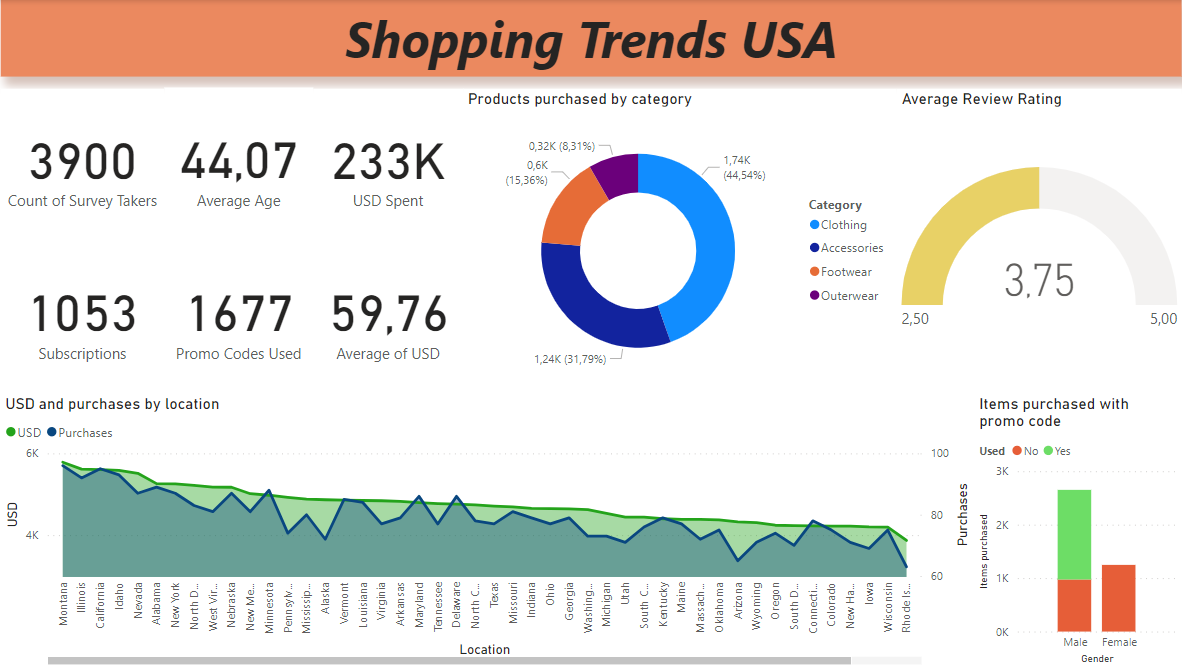

Layout of this report page (visuals, bound fields, positions):
{"tool":"powerbi","page":{"name":"Página 1","canvas":[1280,720],"ordinal":0},"visuals":[{"type":"textbox","box":[9.6,0,1270.7,82.3],"z":0},{"type":"card","fields":{"Values":["CountNonNull(shopping_trends_updated.Customer ID)"]},"box":[9.4,95.5,176.2,164.1],"z":1000},{"type":"card","fields":{"Values":["Avg(shopping_trends_updated.Age)"]},"box":[185.6,94.1,160,165.4],"z":2000},{"type":"card","fields":{"Values":["Sum(shopping_trends_updated.Purchase Amount (USD))"]},"box":[345.6,95.5,161.4,164.1],"z":3000},{"type":"donutChart","title":"Products purchased by category","fields":{"Category":["shopping_trends_updated.Category"],"Y":["CountNonNull(shopping_trends_updated.Category)"]},"box":[507,95.5,466.7,328.1],"z":4000},{"type":"gauge","title":"Average Review Rating","fields":{"Y":["Avg(shopping_trends_updated.Review Rating)"],"MinValue":["Min(shopping_trends_updated.Review Rating)1"],"MaxValue":["Max(shopping_trends_updated.Review Rating)2"]},"box":[973.7,95.5,306.6,328.1],"z":5000},{"type":"columnChart","title":"Items purchased with promo code","fields":{"Category":["shopping_trends_updated.Gender"],"Y":["CountNonNull(shopping_trends_updated.Item Purchased)"],"Series":["shopping_trends_updated.Promo Code Used"]},"box":[1057,423.6,223.2,295.9],"z":6000},{"type":"card","fields":{"Values":["Sum(shopping_trends_updated.Subscription Status Binary)"]},"box":[9.4,259.6,176.2,164.1],"z":7003},{"type":"card","fields":{"Values":["Sum(shopping_trends_updated.Promo Code Used Binary)"]},"box":[185.6,259.6,160,164.1],"z":7004},{"type":"card","fields":{"Values":["Avg(shopping_trends_updated.Purchase Amount (USD))"]},"box":[345.6,259.6,161.4,164.1],"z":7005},{"type":"areaChart","title":"USD and purchases by location","fields":{"Category":["shopping_trends_updated.Location"],"Y":["Sum(shopping_trends_updated.Purchase Amount (USD))"],"Y2":["CountNonNull(shopping_trends_updated.Location)"]},"box":[9.4,423.6,1047.6,295.9],"z":7006}]}

Visuals, with their boxes in screenshot pixels (x1, y1, x2, y2), scaled from the page's 1280x720 canvas onto the 1182x665 screenshot:
textbox: locate(9, 0, 1181, 76)
card - CountNonNull(shopping_trends_updated.Customer ID): locate(9, 88, 171, 240)
card - Avg(shopping_trends_updated.Age): locate(171, 87, 319, 240)
card - Sum(shopping_trends_updated.Purchase Amount (USD)): locate(319, 88, 468, 240)
"Products purchased by category" donutChart: locate(468, 88, 899, 391)
"Average Review Rating" gauge: locate(899, 88, 1181, 391)
"Items purchased with promo code" columnChart: locate(976, 391, 1181, 664)
card - Sum(shopping_trends_updated.Subscription Status Binary): locate(9, 240, 171, 391)
card - Sum(shopping_trends_updated.Promo Code Used Binary): locate(171, 240, 319, 391)
card - Avg(shopping_trends_updated.Purchase Amount (USD)): locate(319, 240, 468, 391)
"USD and purchases by location" areaChart: locate(9, 391, 976, 664)
